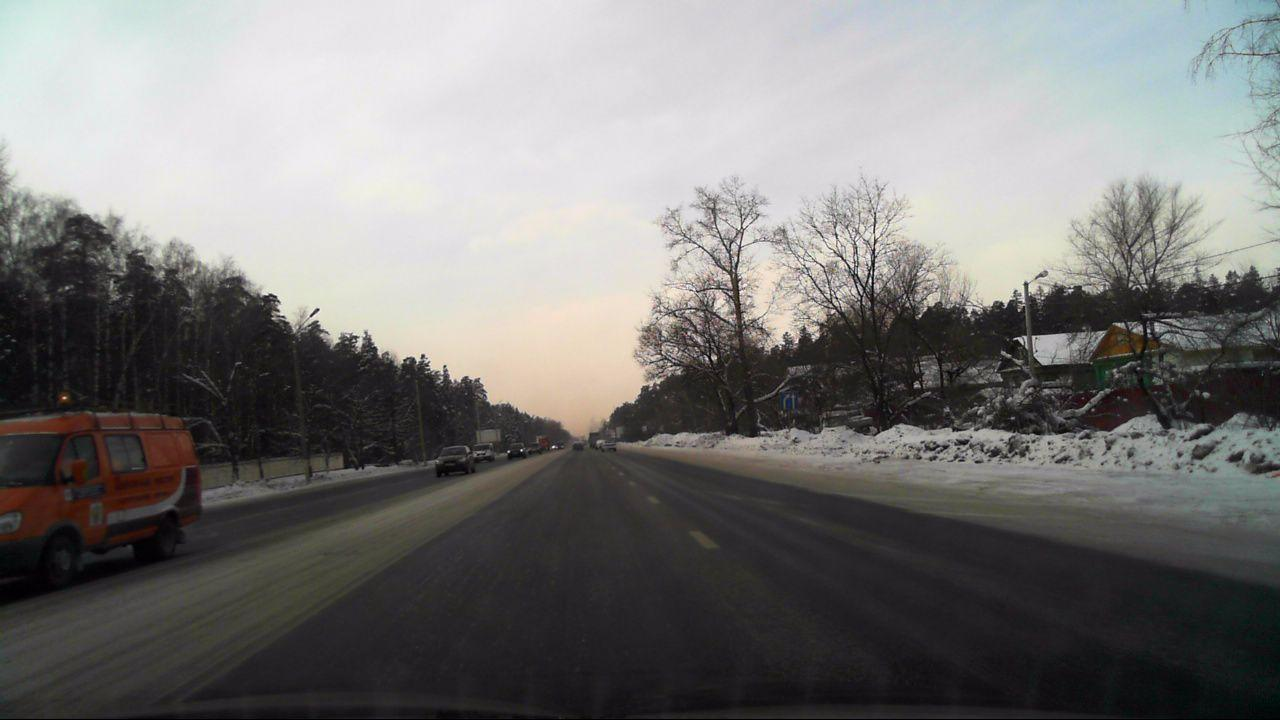5_15_6: (780, 391, 799, 410)
